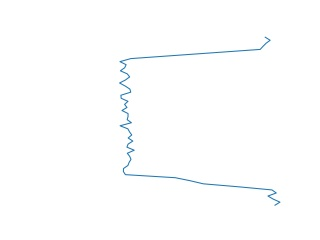distributaryChannelFill: (114, 37, 284, 205)
